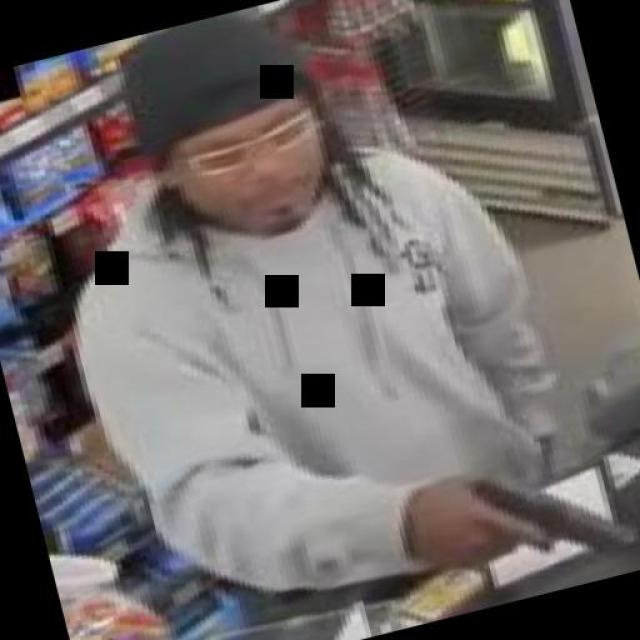gun: (421, 438, 640, 596)
